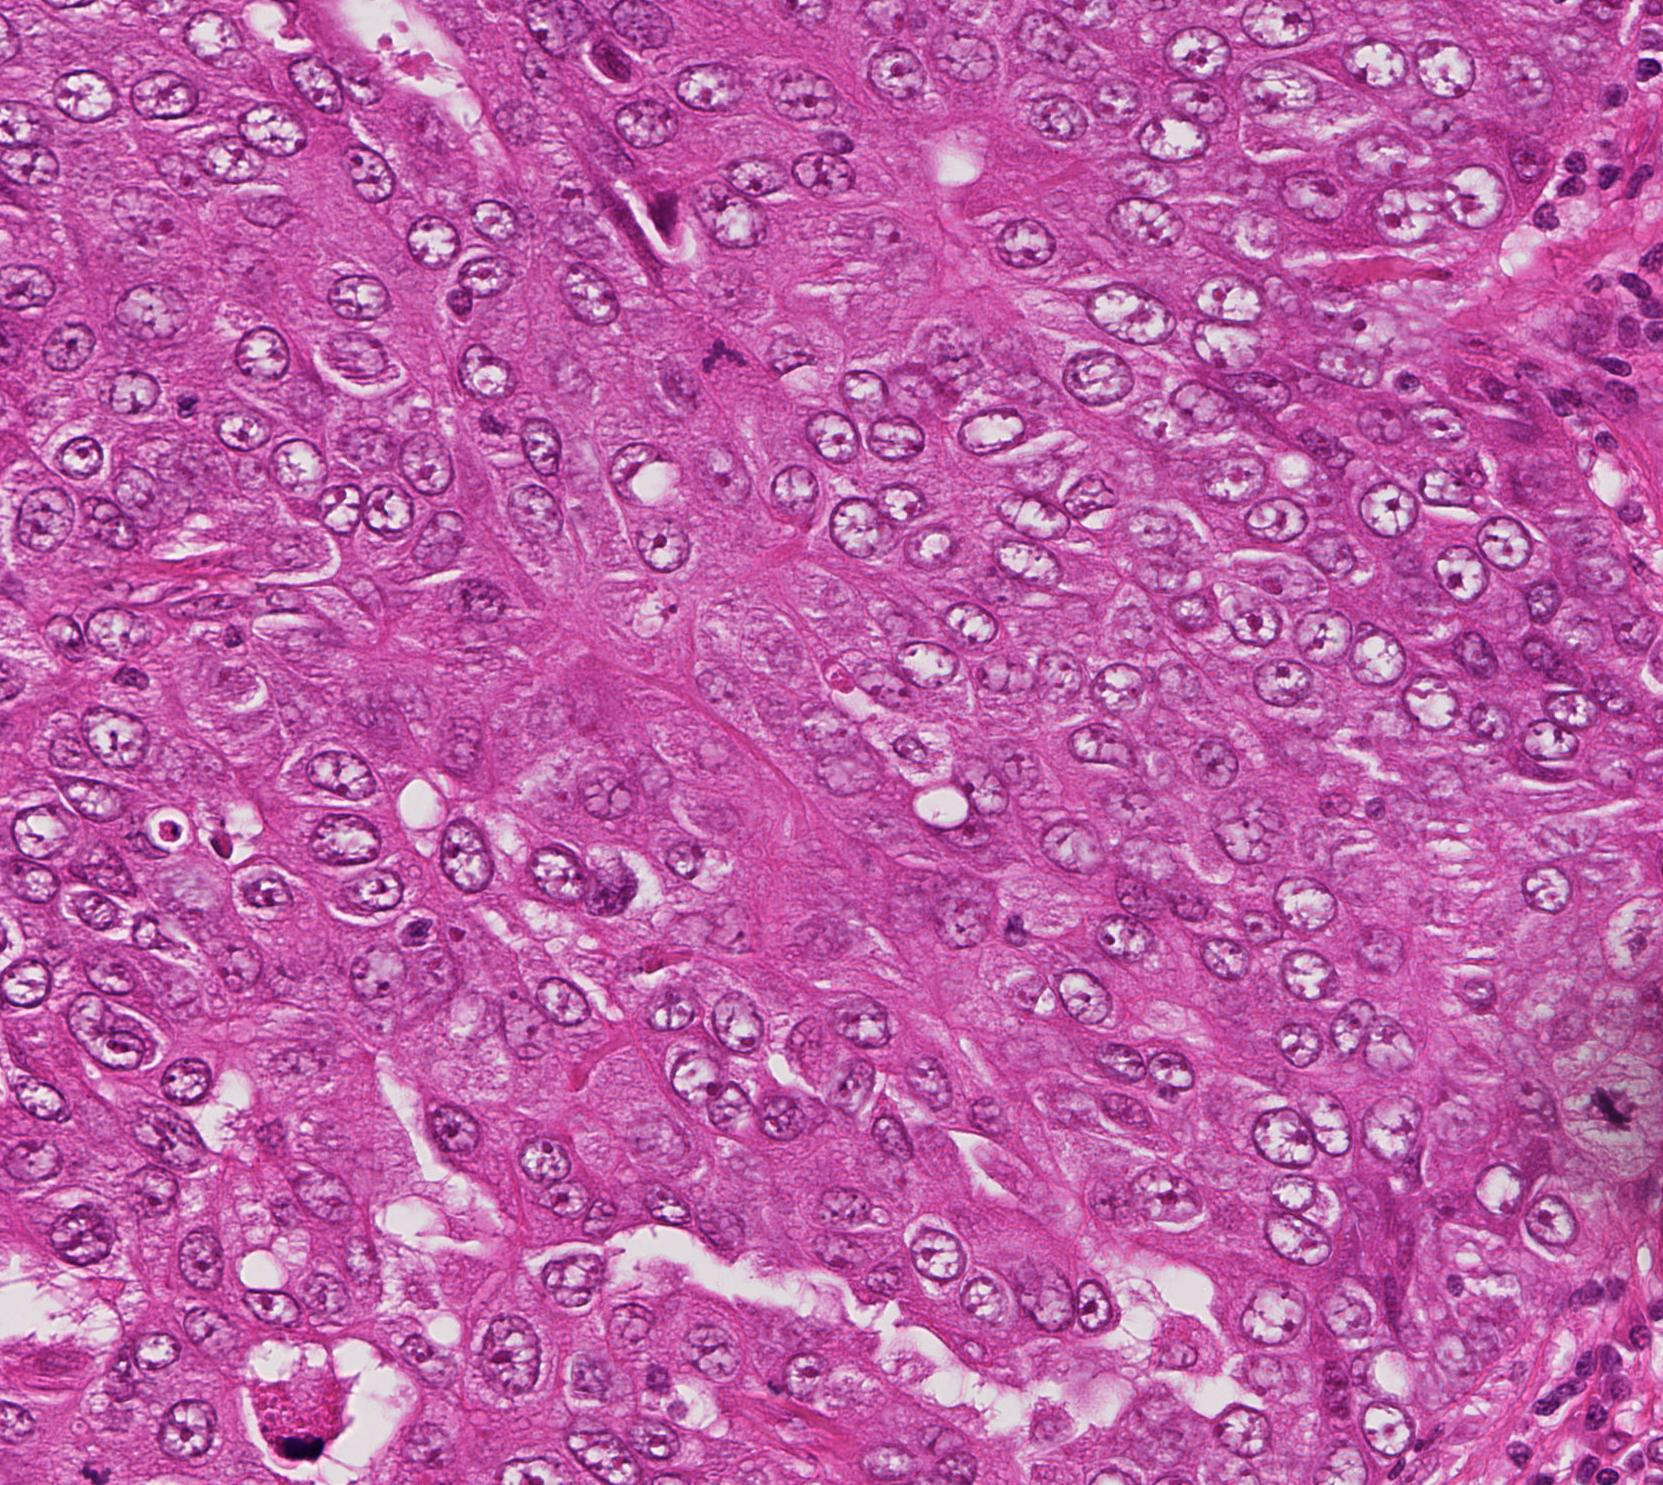mitosis: (1584, 1084, 1644, 1144), (682, 325, 743, 386), (69, 1443, 129, 1485)
